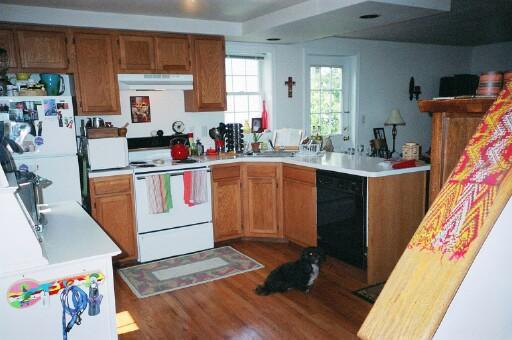Electrodomestico: (135, 170, 214, 255), (318, 173, 367, 277)
Otro Obstaculo: (253, 248, 325, 300)
